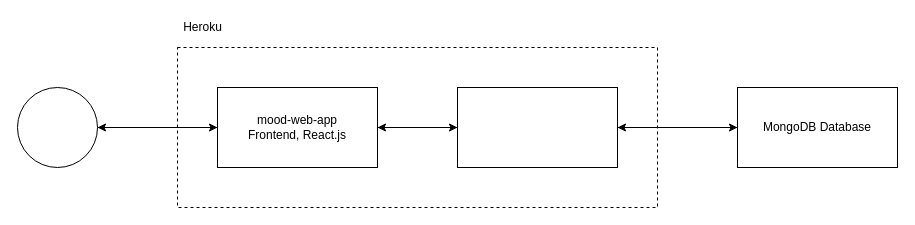
This 915x225 diagram has some shape labels left out. The centre of each missing label's shape, as x and y in pixels:
"mood-web-app Backend, Node.js" goes at pixel 537 127.
"User" goes at pixel 57 127.
